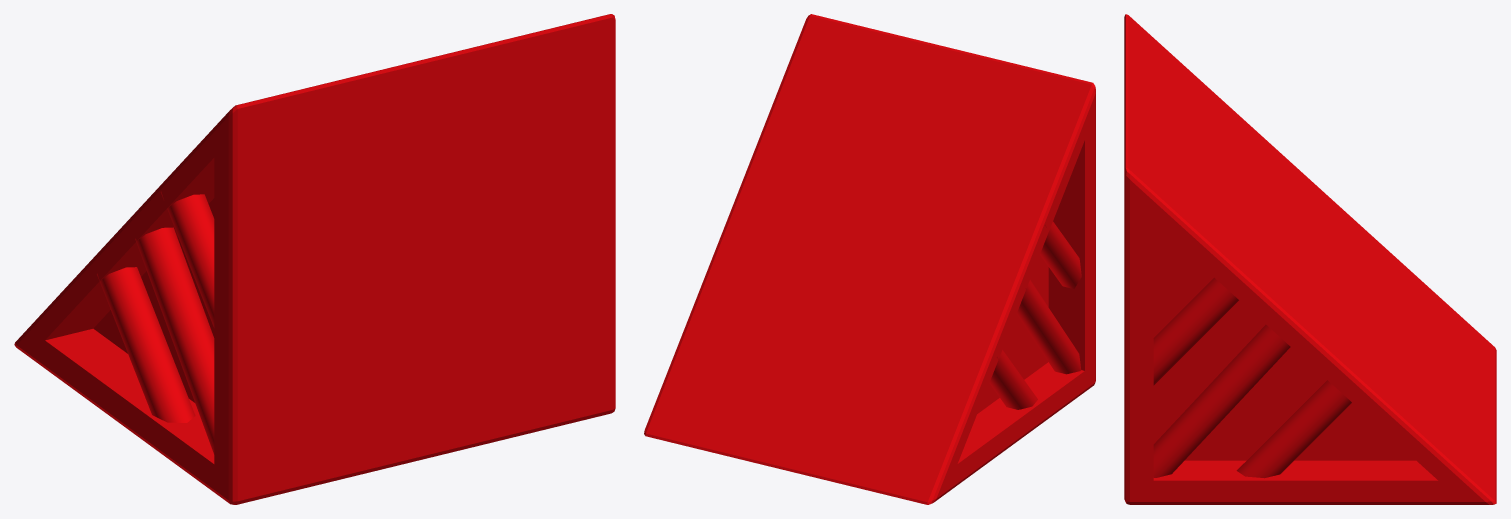
The model's file is Slope.fbx.
The picture shows the model from 3 angles, left to right: view 1: azimuth 30°, elevation 25°; view 2: azimuth 150°, elevation 25°; view 3: azimuth 270°, elevation 25°; orthographic projection. The views are drawn at different scales.
Visible parts, largest first — view 1: SlopeExport; view 2: SlopeExport; view 3: SlopeExport.
Boxes of the visible parts, bbox=[...] form: SlopeExport: bbox=[14, 14, 615, 504]; SlopeExport: bbox=[644, 14, 1095, 504]; SlopeExport: bbox=[1124, 14, 1496, 504].
Bounding box in the file's own units: 200 × 199 × 199.
